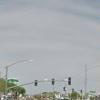Traffic light: (30, 73, 77, 87)
